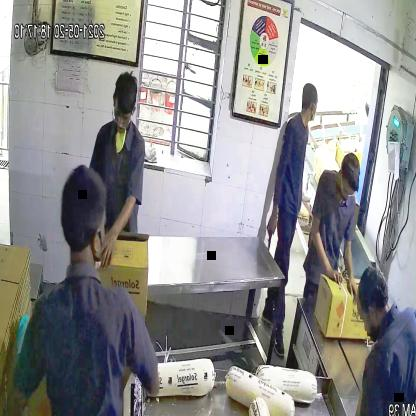goggles: (109, 99, 136, 130)
